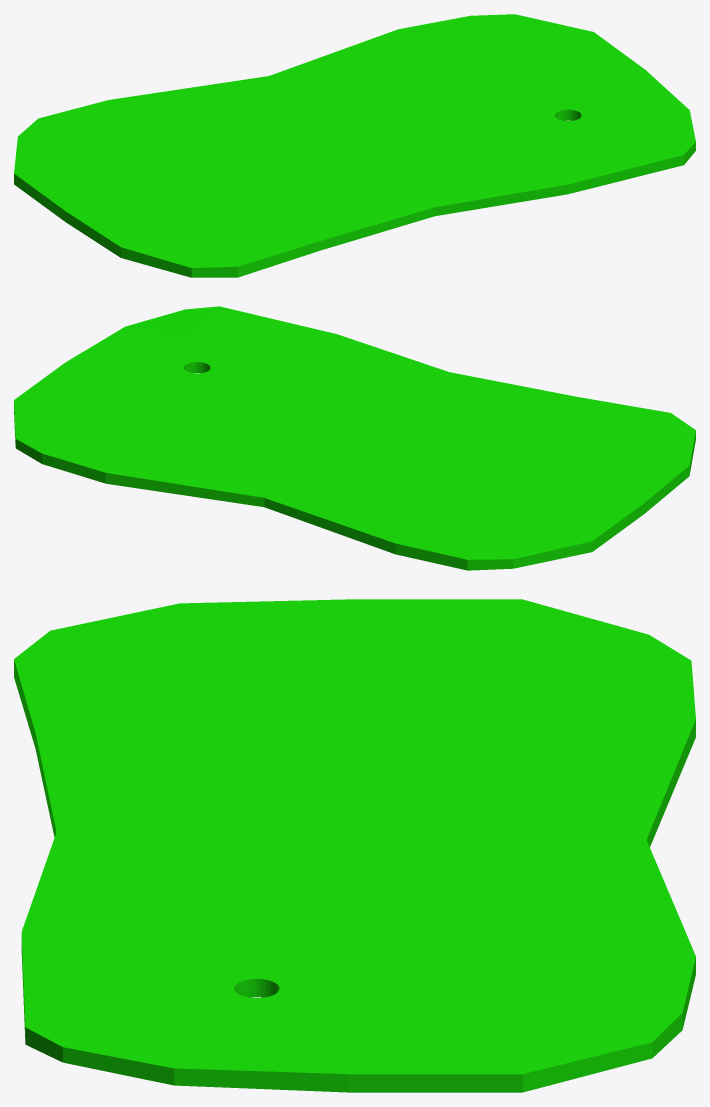
The model's file is holetest.fbx.
3 views of the same model, one above another, from view 1: azimuth 30°, elevation 25°; view 2: azimuth 150°, elevation 25°; view 3: azimuth 270°, elevation 25° (orthographic). The views are drawn at different scales.
Visible parts, largest first — view 1: Cube; view 2: Cube; view 3: Cube.
Boxes of the visible parts, left/top/right/bottom form: Cube: left=14, top=14, right=695, bottom=277; Cube: left=14, top=306, right=695, bottom=570; Cube: left=14, top=599, right=695, bottom=1092.
Size of the model in its own units: 1937 by 34.92 by 1176.
